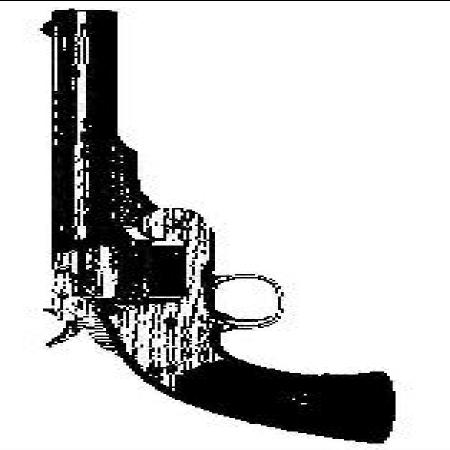Pistol: (35, 6, 396, 447)
